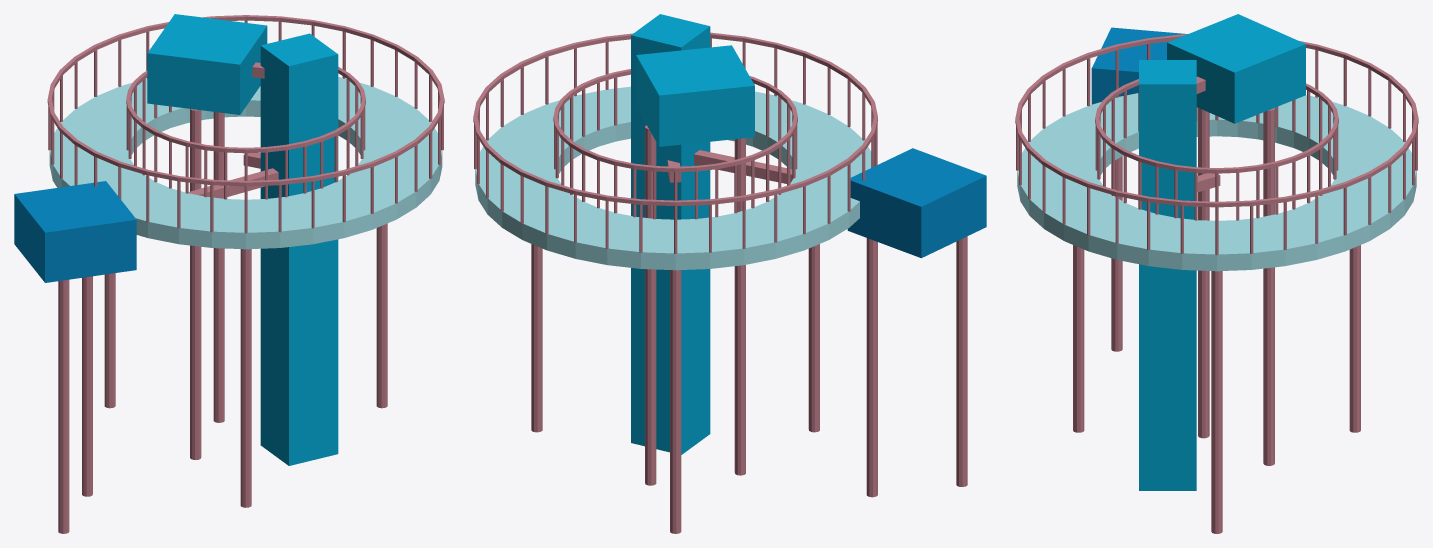
The model's file is folie_tag_030.glb.
3 renders of one model, left to right at view 1: azimuth 30°, elevation 25°; view 2: azimuth 150°, elevation 25°; view 3: azimuth 270°, elevation 25°, orthographic.
Visible parts, largest first — view 1: folie_tag_030_line, folie_tag_030_00_ring, folie_tag_030_core, folie_tag_030_02_block, folie_tag_030_01_block; view 2: folie_tag_030_line, folie_tag_030_00_ring, folie_tag_030_core, folie_tag_030_02_block, folie_tag_030_01_block; view 3: folie_tag_030_00_ring, folie_tag_030_line, folie_tag_030_core, folie_tag_030_01_block, folie_tag_030_02_block.
Boxes of the visible parts, x1=… form: folie_tag_030_line: x1=47, y1=15, x2=444, y2=533; folie_tag_030_00_ring: x1=49, y1=77, x2=442, y2=249; folie_tag_030_core: x1=260, y1=33, x2=338, y2=465; folie_tag_030_02_block: x1=14, y1=181, x2=136, y2=282; folie_tag_030_01_block: x1=147, y1=14, x2=267, y2=114; folie_tag_030_line: x1=473, y1=32, x2=967, y2=533; folie_tag_030_00_ring: x1=475, y1=86, x2=871, y2=270; folie_tag_030_core: x1=631, y1=14, x2=710, y2=454; folie_tag_030_02_block: x1=847, y1=148, x2=986, y2=258; folie_tag_030_01_block: x1=636, y1=45, x2=754, y2=146; folie_tag_030_00_ring: x1=1017, y1=93, x2=1416, y2=271; folie_tag_030_line: x1=1015, y1=34, x2=1418, y2=533; folie_tag_030_core: x1=1139, y1=60, x2=1196, y2=490; folie_tag_030_01_block: x1=1167, y1=14, x2=1305, y2=123; folie_tag_030_02_block: x1=1091, y1=27, x2=1187, y2=104.
Size of the model in its own units: 9.49 by 8.54 by 7.68.
